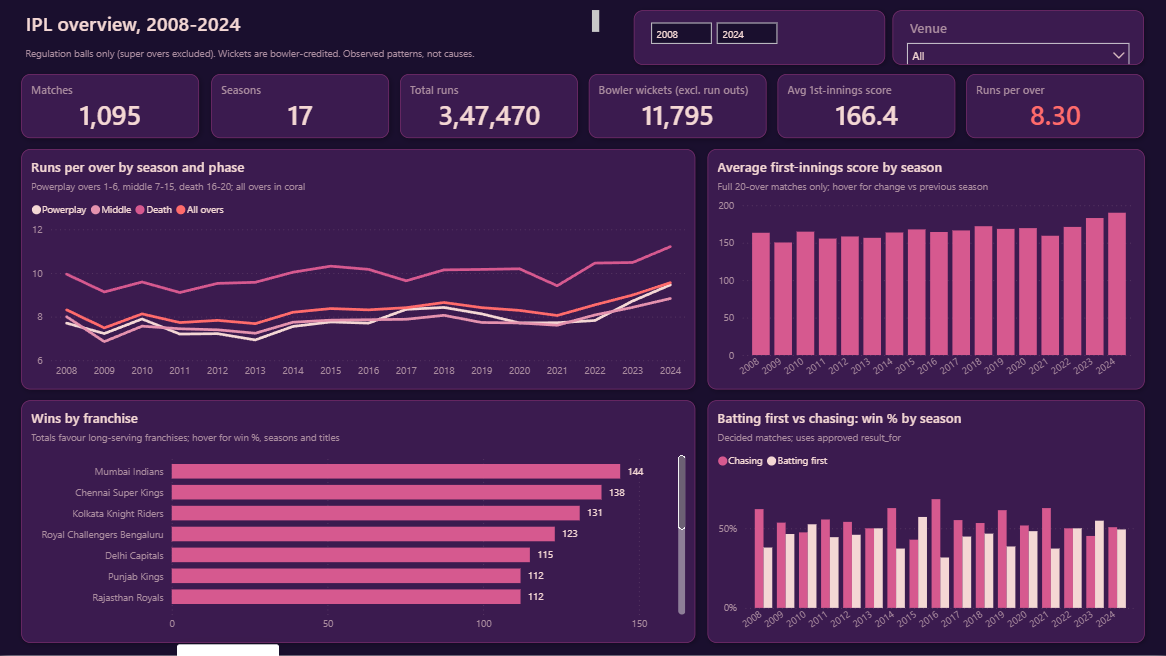

The page's visual inventory and layout, read from the dashboard file:
{"tool":"powerbi","page":{"name":"IPL overview","canvas":[1280,720],"ordinal":0},"visuals":[{"type":"textbox","box":[18,4,650,42],"z":100},{"type":"textbox","box":[18,42,664,34],"z":200},{"type":"slicer","fields":{"Values":["DimSeason.Season"]},"box":[696,12,276,60],"z":300},{"type":"slicer","fields":{"Values":["DimVenue.Venue"]},"box":[980,12,276,60],"z":400},{"type":"card","title":"Matches","fields":{"Values":["_Measures.Matches"]},"box":[24,82,195.3,70],"z":500},{"type":"card","title":"Seasons","fields":{"Values":["_Measures.Seasons"]},"box":[231.3,82,195.3,70],"z":600},{"type":"card","title":"Total runs","fields":{"Values":["_Measures.Total Runs"]},"box":[438.7,82,195.3,70],"z":700},{"type":"card","title":"Bowler wickets (excl. run outs)","fields":{"Values":["_Measures.Bowler Wickets"]},"box":[646,82,195.3,70],"z":800},{"type":"card","title":"Avg 1st-innings score","fields":{"Values":["_Measures.Avg First Innings"]},"box":[853.3,82,195.3,70],"z":900},{"type":"card","title":"Runs per over","fields":{"Values":["_Measures.Run Rate"]},"box":[1060.7,82,195.3,70],"z":1000},{"type":"lineChart","title":"Runs per over by season and phase","fields":{"Category":["DimSeason.Season"],"Y":["_Measures.Run Rate Powerplay","_Measures.Run Rate Middle","_Measures.Run Rate Death","_Measures.Run Rate"]},"box":[24,164,740,264],"z":1100},{"type":"clusteredColumnChart","title":"Average first-innings score by season","fields":{"Category":["DimSeason.Season"],"Y":["_Measures.Avg First Innings"]},"box":[776,164,480,264],"z":1200},{"type":"clusteredBarChart","title":"Wins by franchise","fields":{"Category":["DimTeam.Franchise"],"Y":["_Measures.Wins"]},"box":[24,440,740,266],"z":1300},{"type":"clusteredColumnChart","title":"Batting first vs chasing: win % by season","fields":{"Category":["DimSeason.Season"],"Y":["_Measures.Chasing Win %","_Measures.Batting First Win %"]},"box":[776,440,480,266],"z":1400}]}

Visuals, with their boxes in screenshot pixels (x1, y1, x2, y2), scaled from the page's 1280x720 canvas onto the 1166x656 screenshot:
textbox: 16, 4, 609, 42
textbox: 16, 38, 621, 69
slicer - DimSeason.Season: 634, 11, 885, 66
slicer - DimVenue.Venue: 893, 11, 1144, 66
"Matches" card: 22, 75, 200, 138
"Seasons" card: 211, 75, 389, 138
"Total runs" card: 400, 75, 578, 138
"Bowler wickets (excl. run outs)" card: 588, 75, 766, 138
"Avg 1st-innings score" card: 777, 75, 955, 138
"Runs per over" card: 966, 75, 1144, 138
"Runs per over by season and phase" lineChart: 22, 149, 696, 390
"Average first-innings score by season" clusteredColumnChart: 707, 149, 1144, 390
"Wins by franchise" clusteredBarChart: 22, 401, 696, 643
"Batting first vs chasing: win % by season" clusteredColumnChart: 707, 401, 1144, 643
